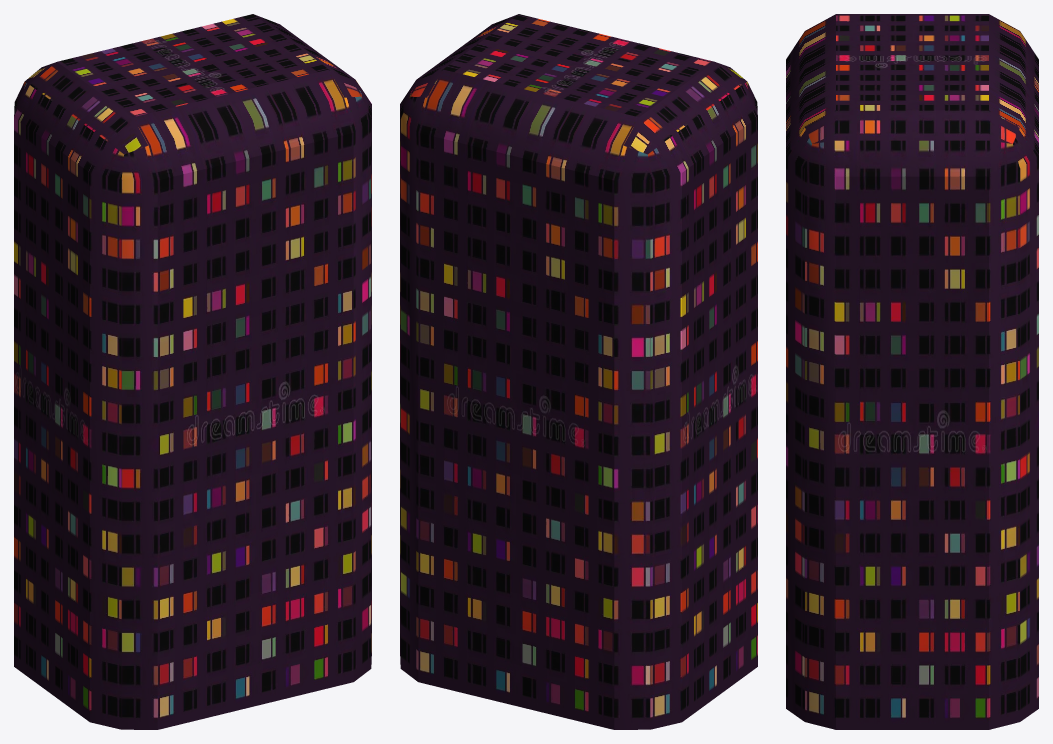
The model's file is Edificio3.fbx.
3 views of the same model, side by side, from view 1: azimuth 30°, elevation 25°; view 2: azimuth 150°, elevation 25°; view 3: azimuth 270°, elevation 25° (orthographic).
Visible parts, largest first — view 1: Box002; view 2: Box002; view 3: Box002.
Part boxes in pixels (bbox=[...]): Box002: bbox=[14, 14, 371, 729]; Box002: bbox=[400, 14, 757, 729]; Box002: bbox=[786, 14, 1038, 729].
Size of the model in its own units: 28.2 by 56.8 by 21.74.
Materials: 1 (1 with a texture image).
